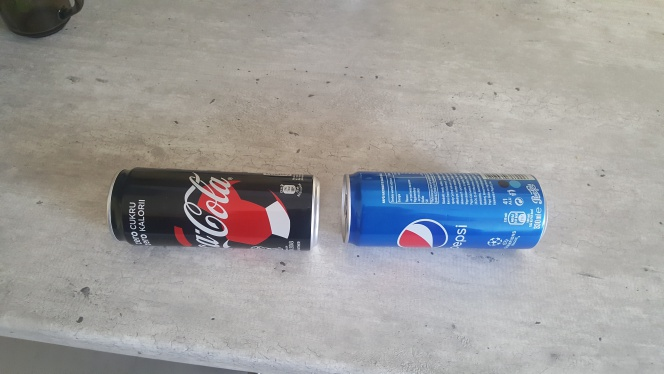colazero: (104, 164, 329, 252)
pepsi: (336, 159, 550, 253)
